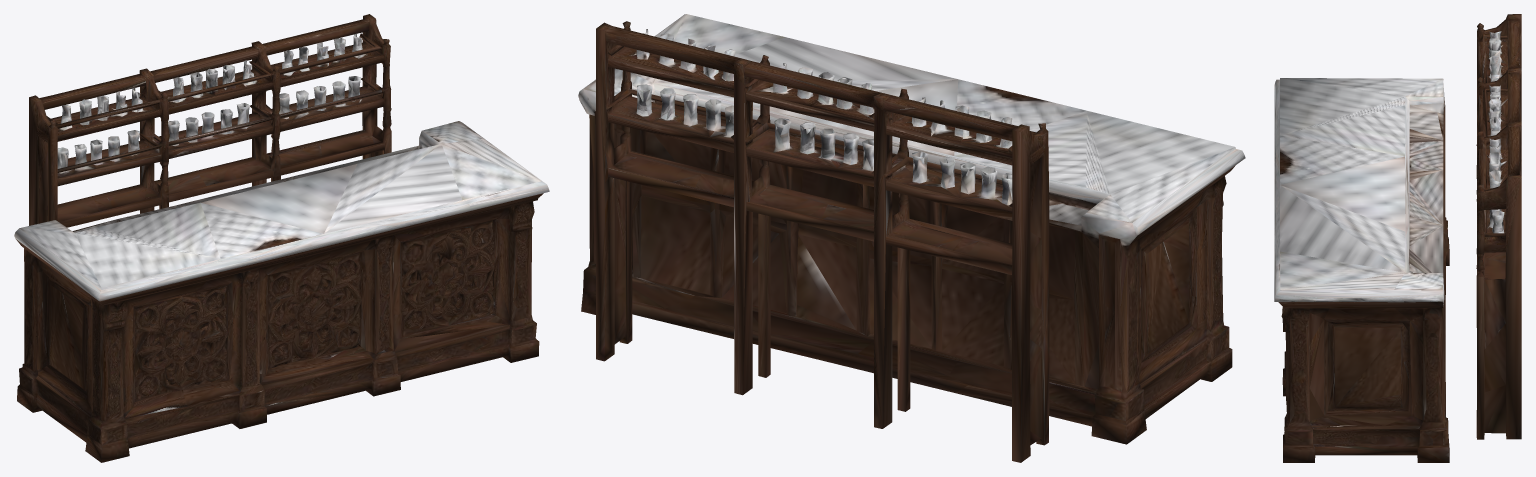
File: env_bar.glb
3 renders of one model, left to right at view 1: azimuth 30°, elevation 25°; view 2: azimuth 150°, elevation 25°; view 3: azimuth 270°, elevation 25°, orthographic. The views are drawn at different scales.
Visible parts, largest first — view 1: Mesh_0; view 2: Mesh_0; view 3: Mesh_0.
Boxes of the visible parts, box(x1,y1,x2,y2) form: Mesh_0: box(14, 14, 549, 462); Mesh_0: box(578, 14, 1245, 462); Mesh_0: box(1274, 14, 1521, 462).
Bounding box in the file's own units: 2 × 1.13 × 0.9642.
1 material, 1 textured.
